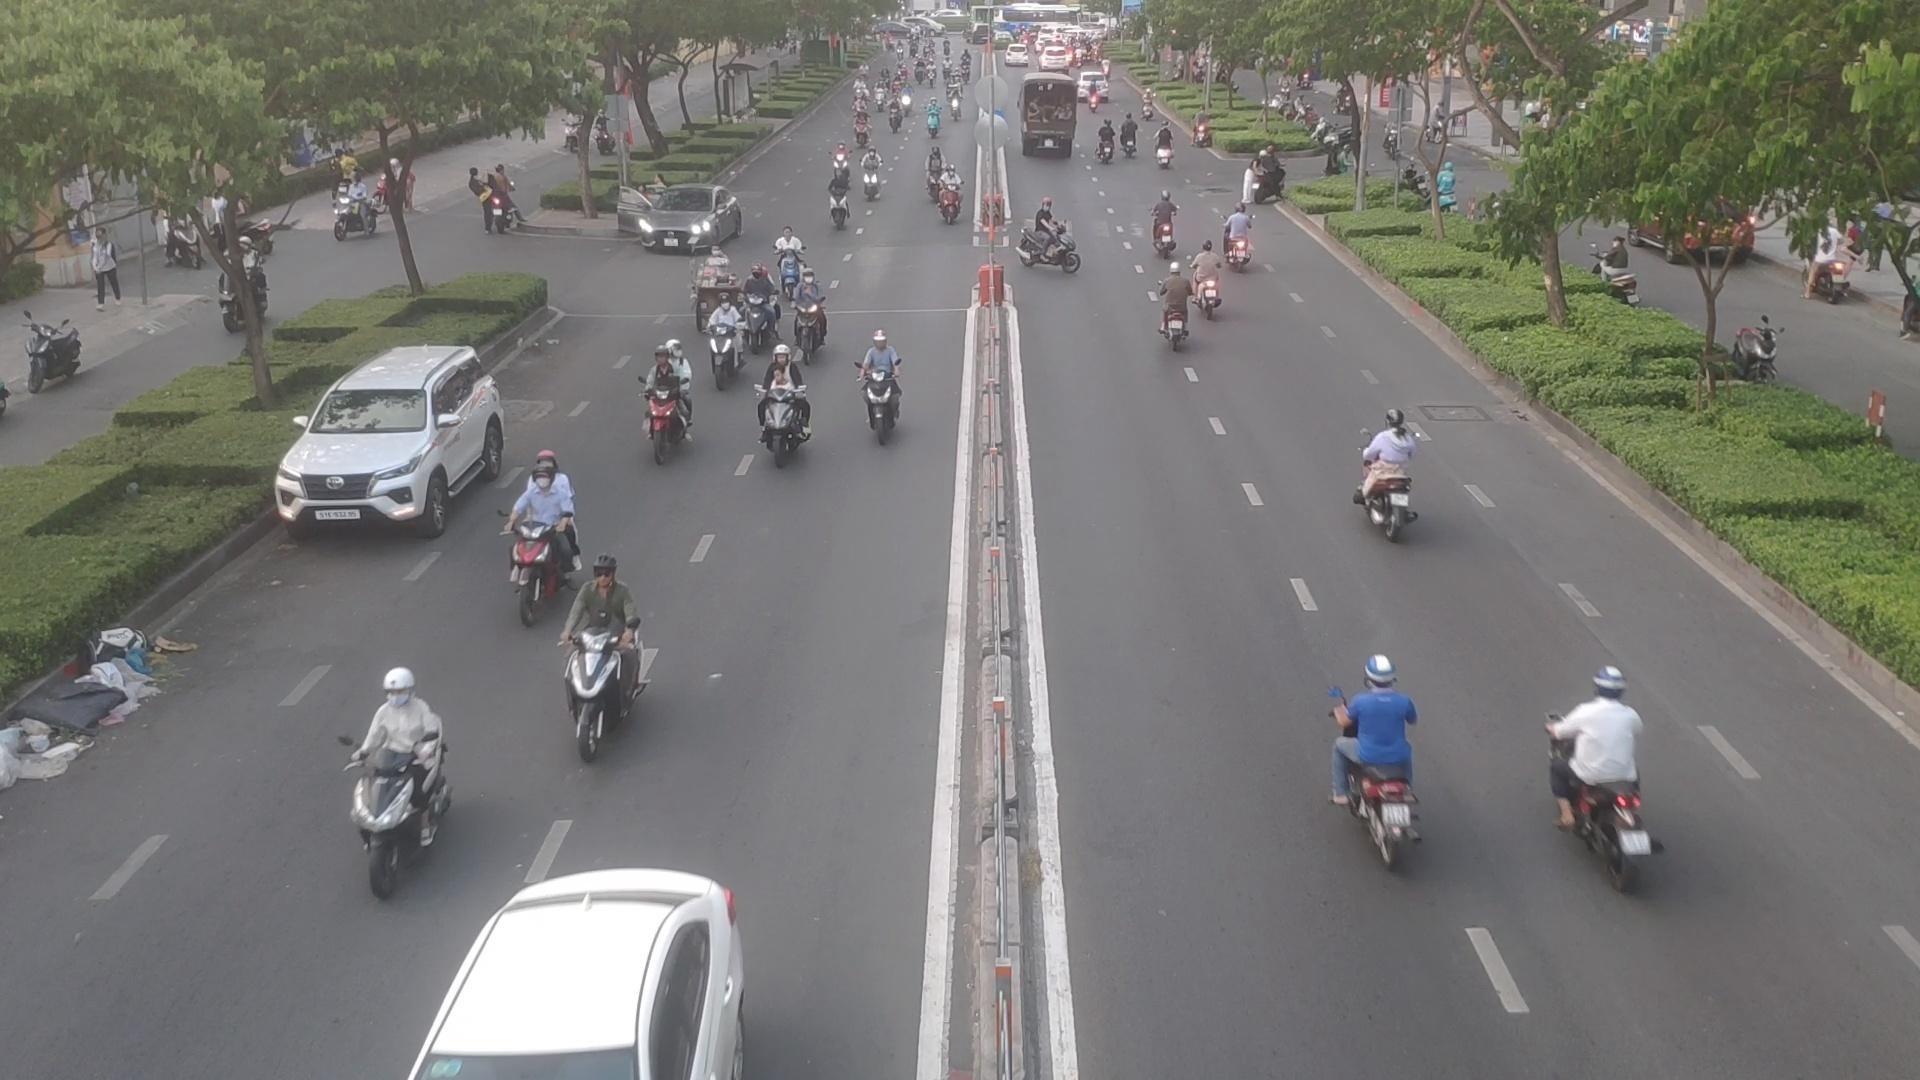car: (425, 872, 746, 1080), (272, 345, 510, 535), (620, 189, 746, 258)
motorbike: (1327, 640, 1433, 866), (1556, 654, 1664, 877), (347, 670, 454, 869), (566, 553, 650, 744), (506, 450, 584, 617), (634, 334, 694, 459), (753, 343, 814, 464), (1366, 417, 1419, 554), (853, 328, 914, 440), (1011, 200, 1083, 287), (1143, 266, 1197, 360), (794, 266, 833, 353), (1240, 138, 1290, 207), (709, 290, 746, 378), (1211, 207, 1259, 272), (1189, 233, 1224, 311), (746, 258, 775, 344), (824, 161, 857, 236), (1149, 190, 1178, 257), (938, 160, 960, 229), (861, 149, 881, 200), (1156, 116, 1171, 181), (1102, 121, 1116, 164), (752, 345, 756, 347)
